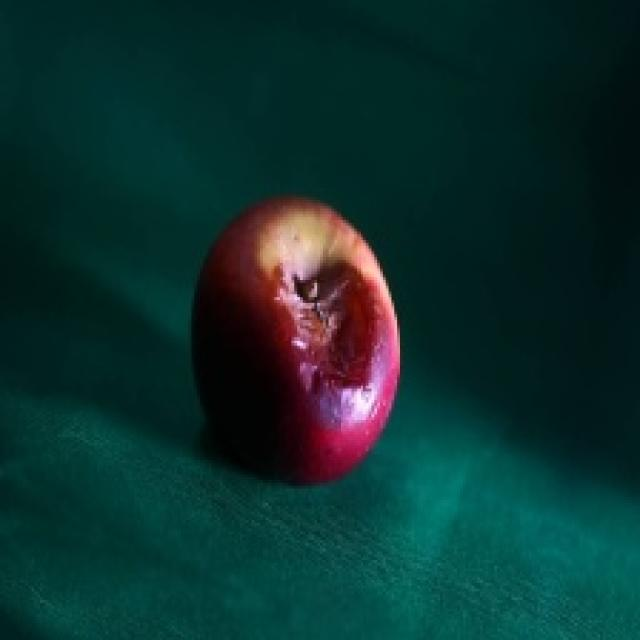rotten_apple: (198, 202, 399, 474)
